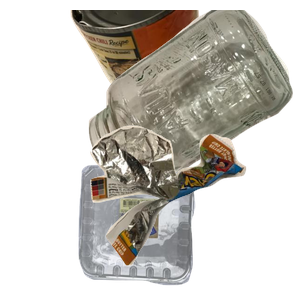glass: (86, 10, 300, 184)
metal: (68, 10, 265, 131)
plastic: (76, 162, 264, 300)
trash: (88, 123, 300, 300)
